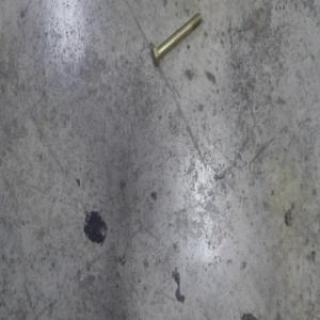Bolttrack_idkeyframe: (149, 9, 203, 66)
